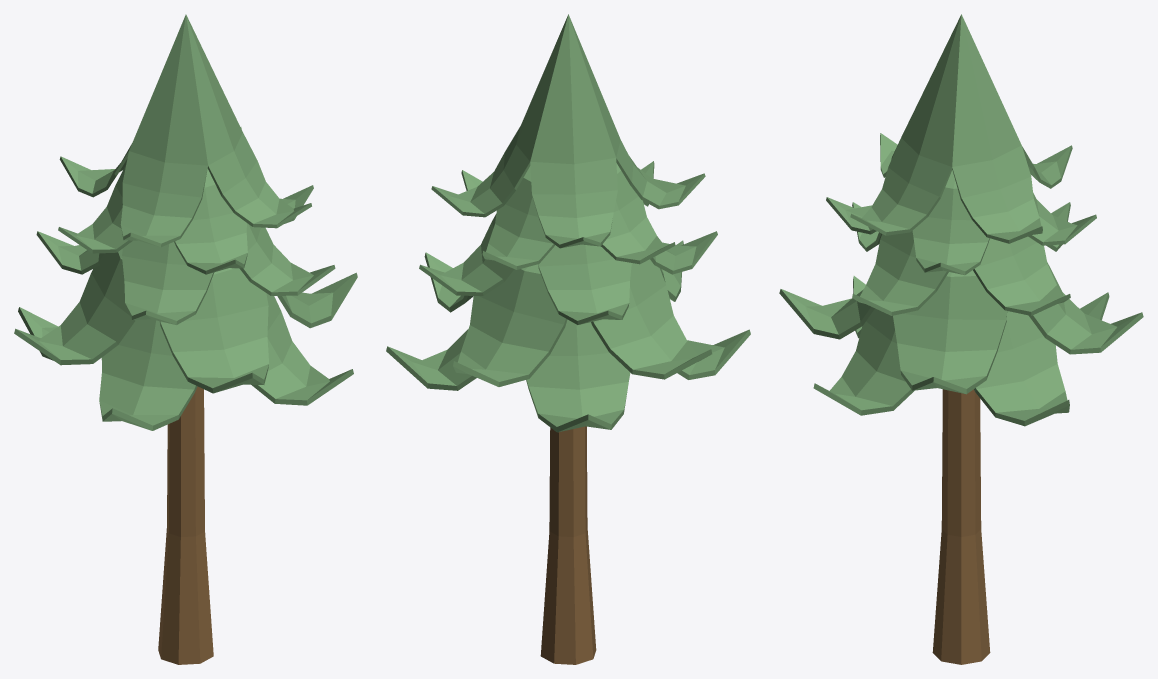
Rendered from PineTreeTall.fbx.
3 views of the same model, side by side, from view 1: azimuth 30°, elevation 25°; view 2: azimuth 150°, elevation 25°; view 3: azimuth 270°, elevation 25° (orthographic).
Visible parts, largest first — view 1: PineTreeTall; view 2: PineTreeTall; view 3: PineTreeTall.
Part boxes in pixels (x1,y1,x2,y2): PineTreeTall: (14,14,357,664); PineTreeTall: (386,14,750,664); PineTreeTall: (779,14,1143,664).
Bounding box in the file's own units: 336 × 649 × 336.
